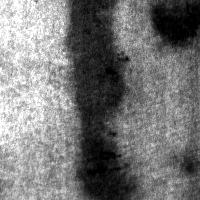patches: (5, 115, 141, 200), (64, 1, 127, 135), (73, 126, 135, 200), (148, 1, 200, 46)
